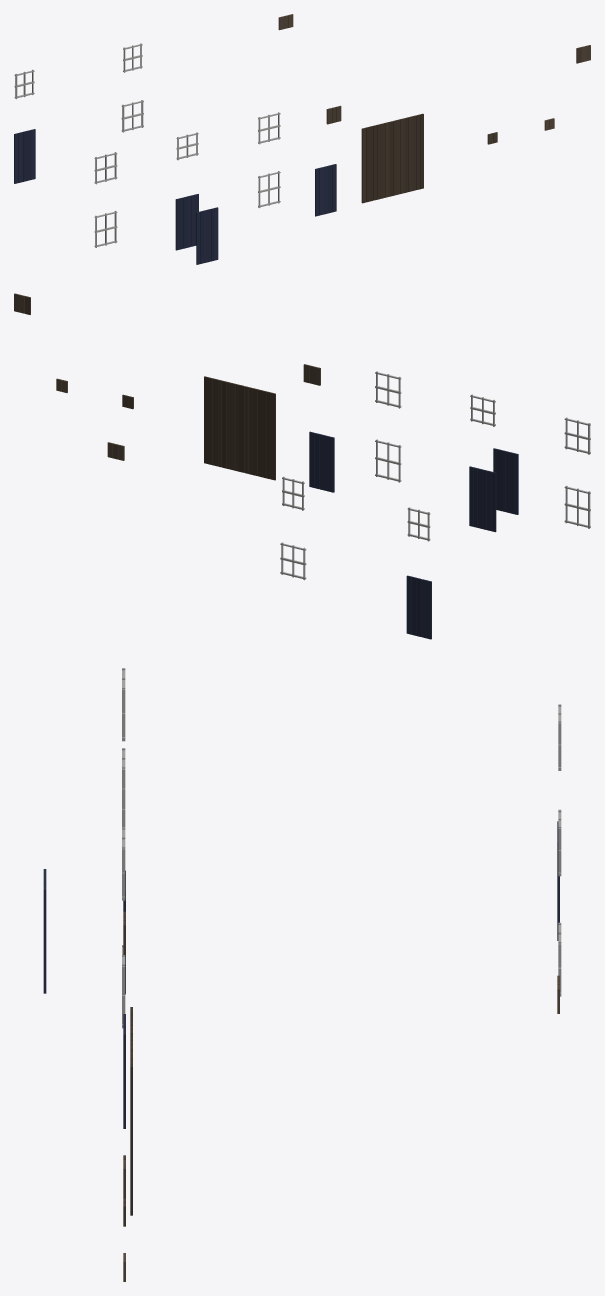
The model's file is SM_Bld_062_Wood.glb.
The picture shows the model from 3 angles, top to bottom: view 1: azimuth 30°, elevation 25°; view 2: azimuth 150°, elevation 25°; view 3: azimuth 270°, elevation 25°; orthographic projection. The views are drawn at different scales.
Parts seen in each view (by area): view 1: SM_Bld_062_Wood; view 2: SM_Bld_062_Wood; view 3: SM_Bld_062_Wood.
Part boxes in pixels (x1,y1,x2,y2): SM_Bld_062_Wood: [14, 14, 590, 264]; SM_Bld_062_Wood: [14, 293, 590, 639]; SM_Bld_062_Wood: [43, 668, 561, 1281].
Bounding box in the file's own units: 20.94 × 4.56 × 9.47.
